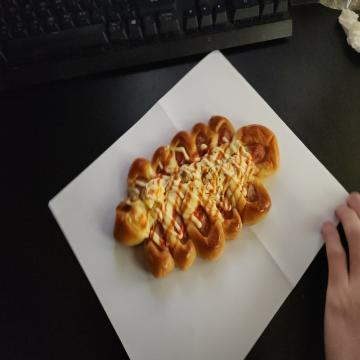pizza_bread: (114, 116, 281, 280)
